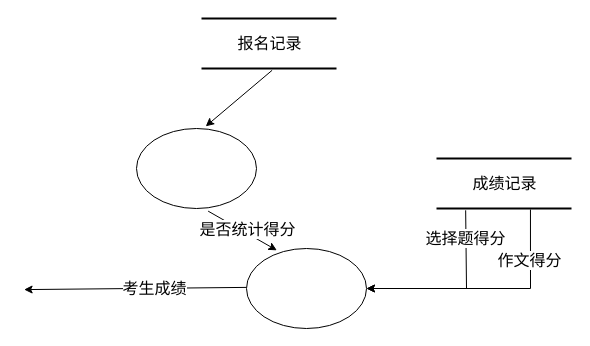
This 590x346 diagram has some shape labels left out. The centre of each missing label's shape, as x and y in pixels:
"得分汇总 4.2" goes at (x=306, y=288).
"检查是否 参加考试 4.1" goes at (x=196, y=168).
